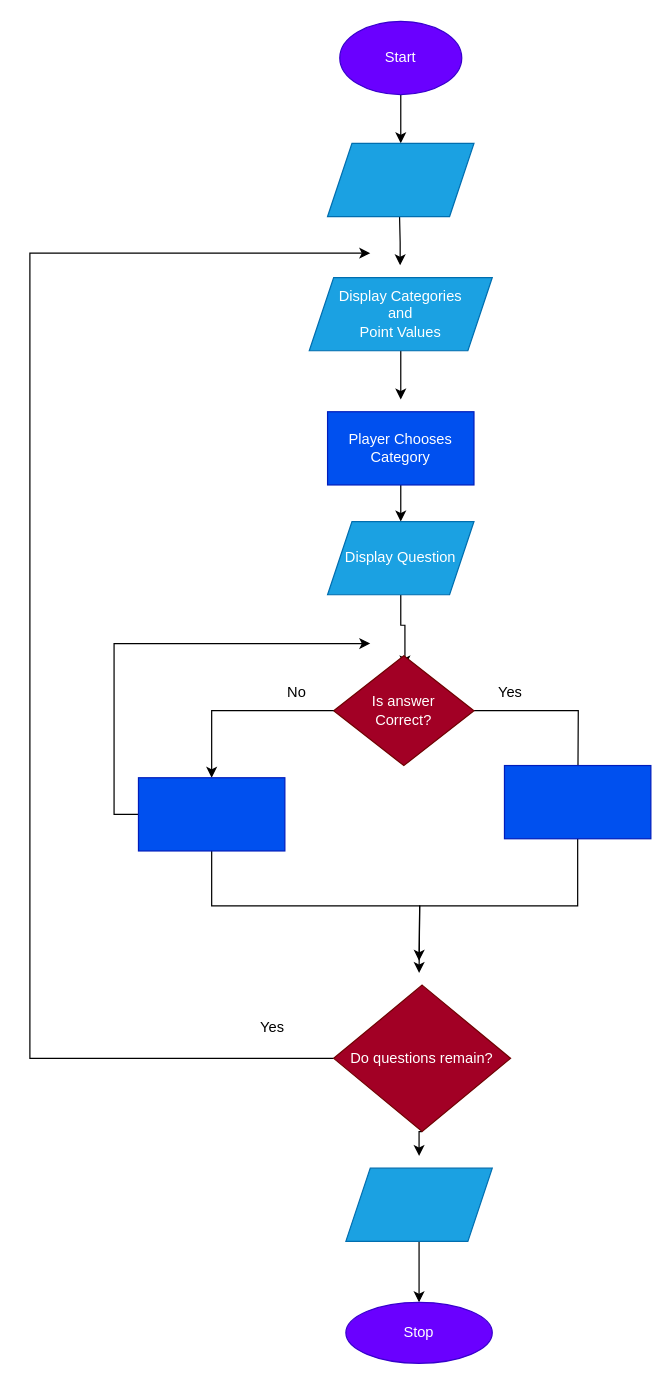
Image size: 672x1385. Some labels were removed from this diagram. The centre of each missing label's shape, as x and y in pixels:
"Display Rules" belongs at (x=400, y=179).
"Display Winner" belongs at (x=418, y=1204).
"Give points" belongs at (x=577, y=801).
"Go to next player" belongs at (x=211, y=814).
